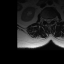CCS_normal: (47, 17, 49, 24)
LFS_normal: (51, 17, 53, 22)
LLS_normal: (49, 17, 51, 23)
RFS_normal: (44, 17, 46, 22)
RLS_normal: (46, 17, 47, 23)
